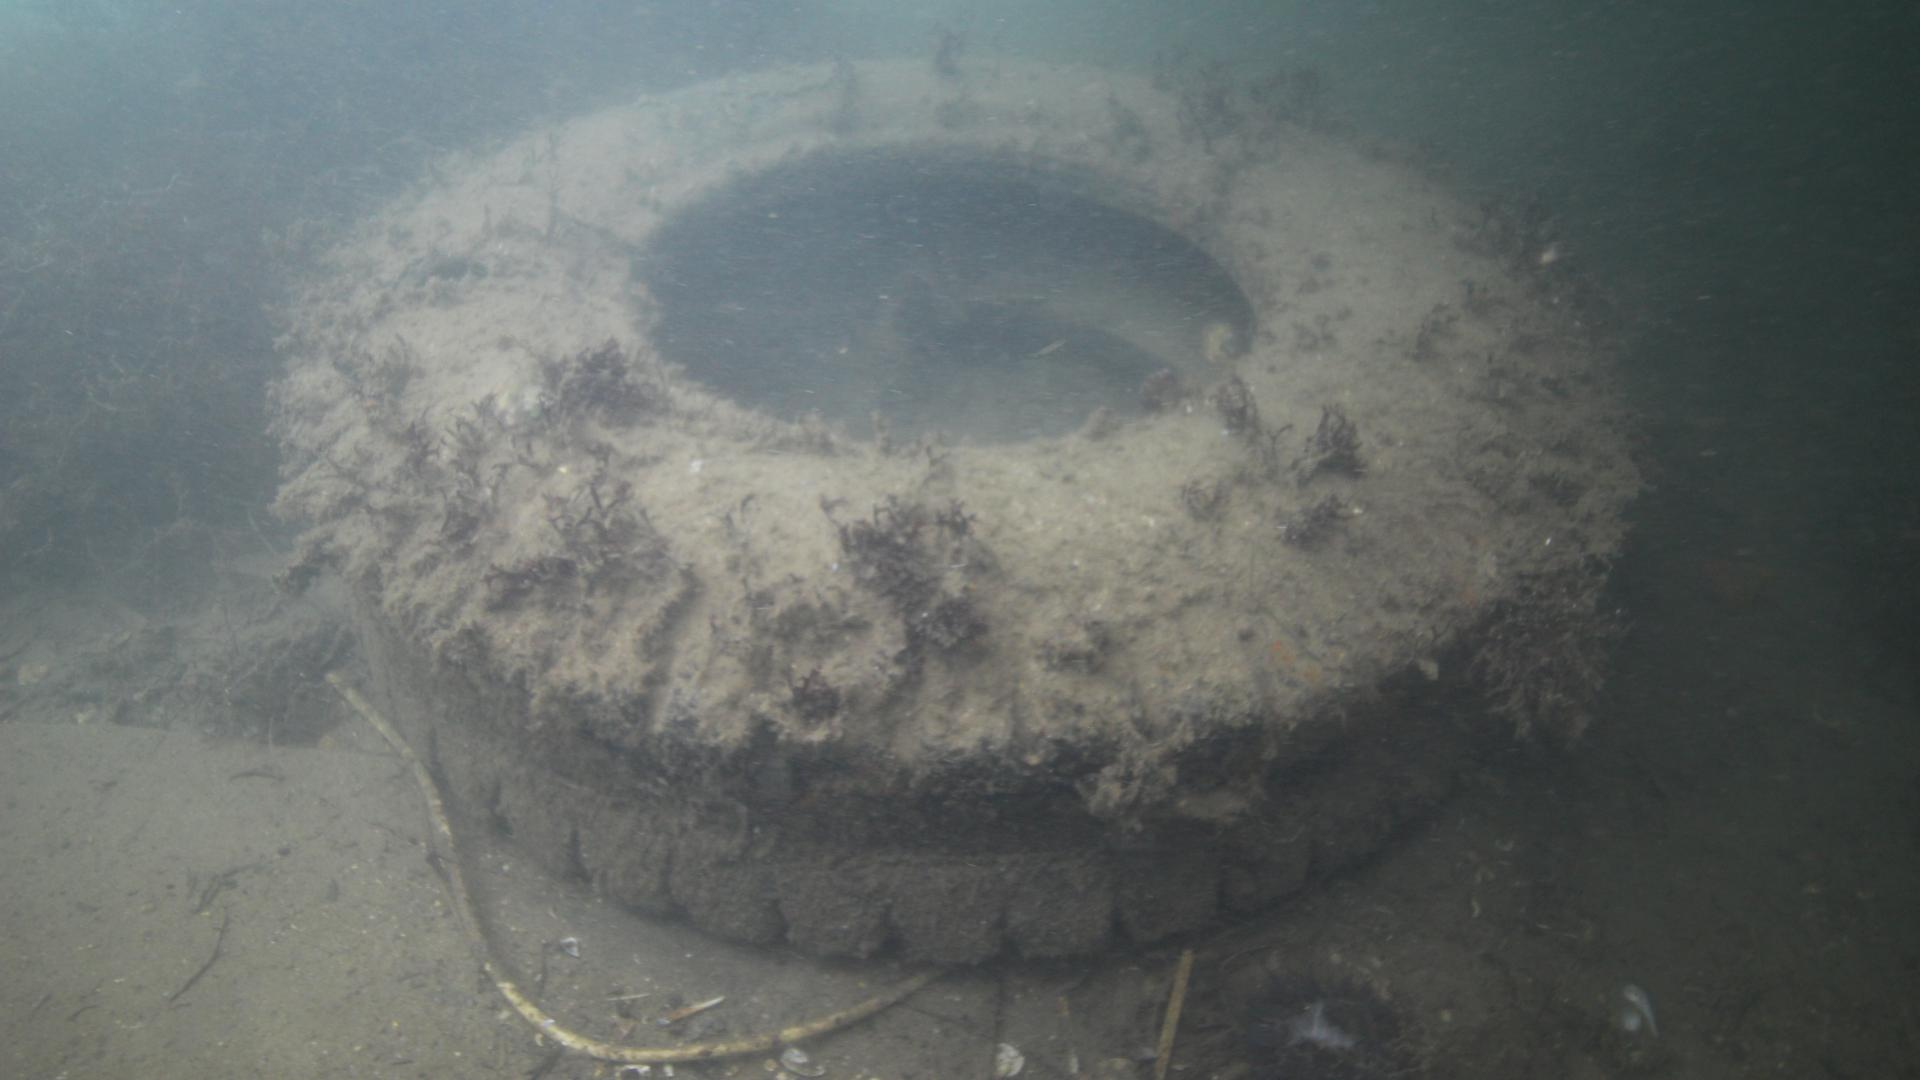tire: (276, 55, 1640, 968)
